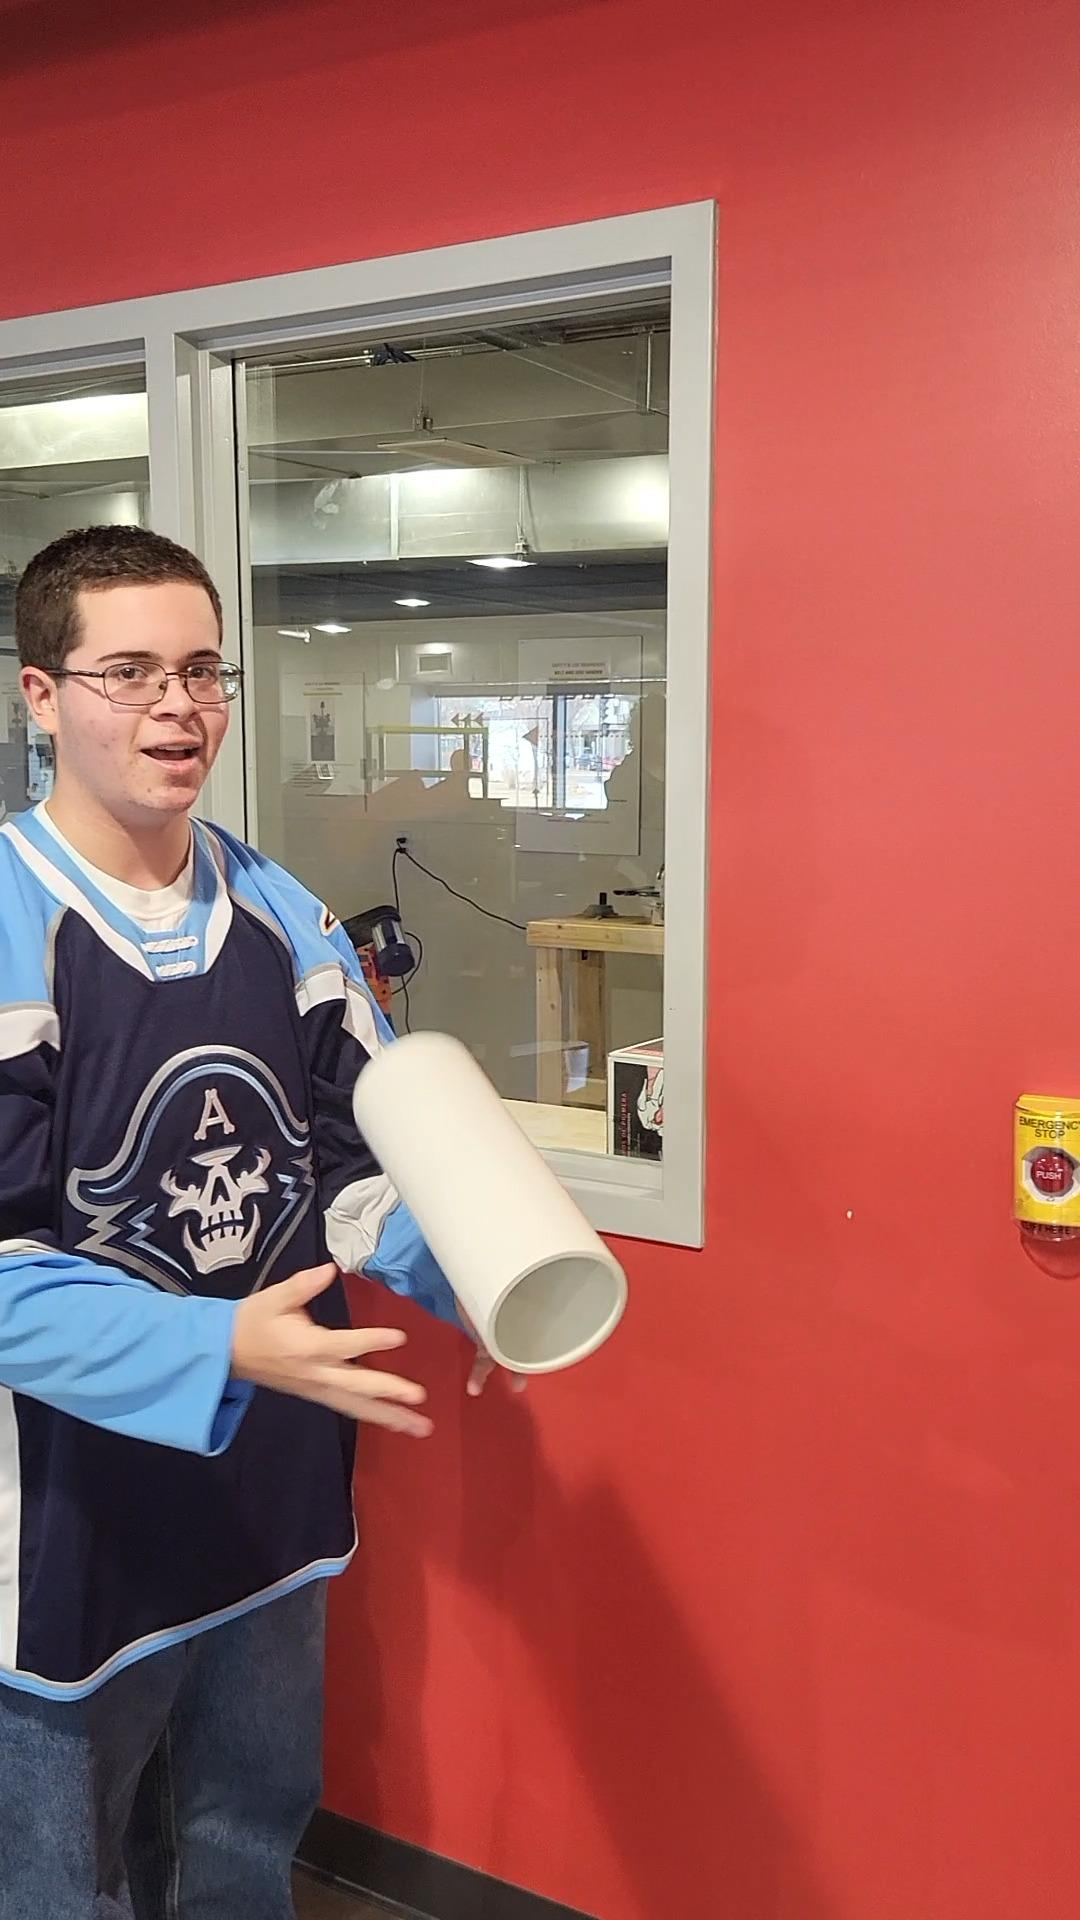coral: (347, 1025, 633, 1377)
